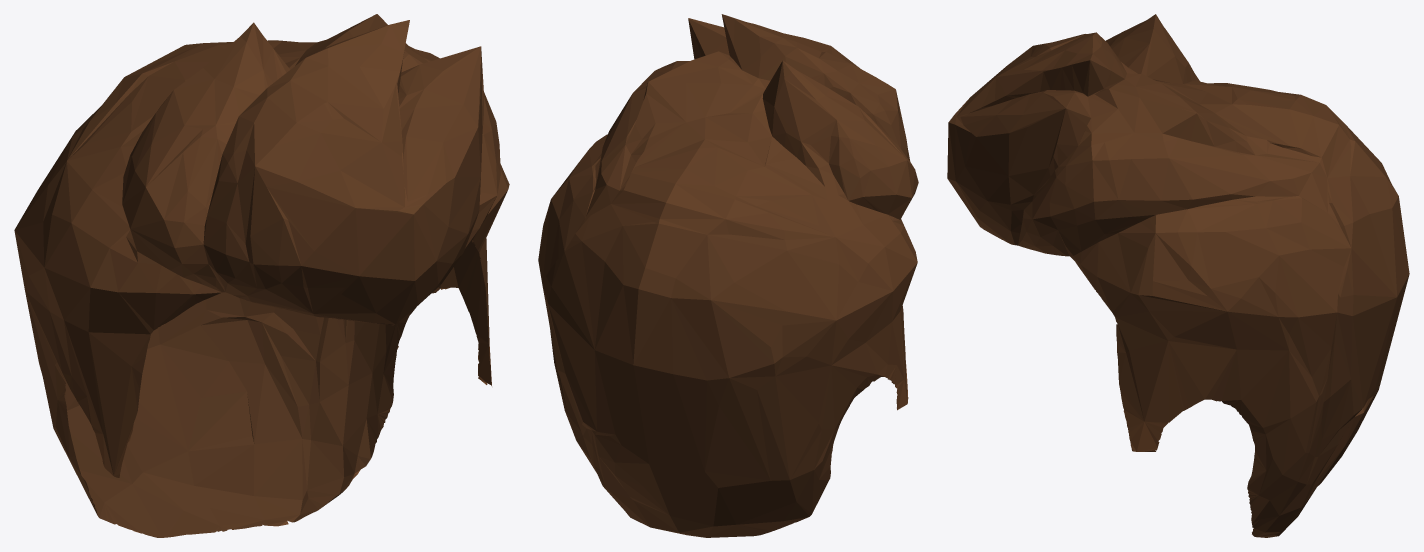
File: quiff-lamina-1500.obj
The picture shows the model from 3 angles, left to right: view 1: azimuth 30°, elevation 25°; view 2: azimuth 150°, elevation 25°; view 3: azimuth 270°, elevation 25°; orthographic projection. The views are drawn at different scales.
Visible parts, largest first — view 1: Quiff_lamina_1500; view 2: Quiff_lamina_1500; view 3: Quiff_lamina_1500.
Part boxes in pixels (left/top/right/bottom): Quiff_lamina_1500: left=14, top=14, right=509, bottom=537; Quiff_lamina_1500: left=538, top=14, right=918, bottom=537; Quiff_lamina_1500: left=947, top=14, right=1409, bottom=537.
Bounding box in the file's own units: 1.11 × 1.43 × 1.24.
